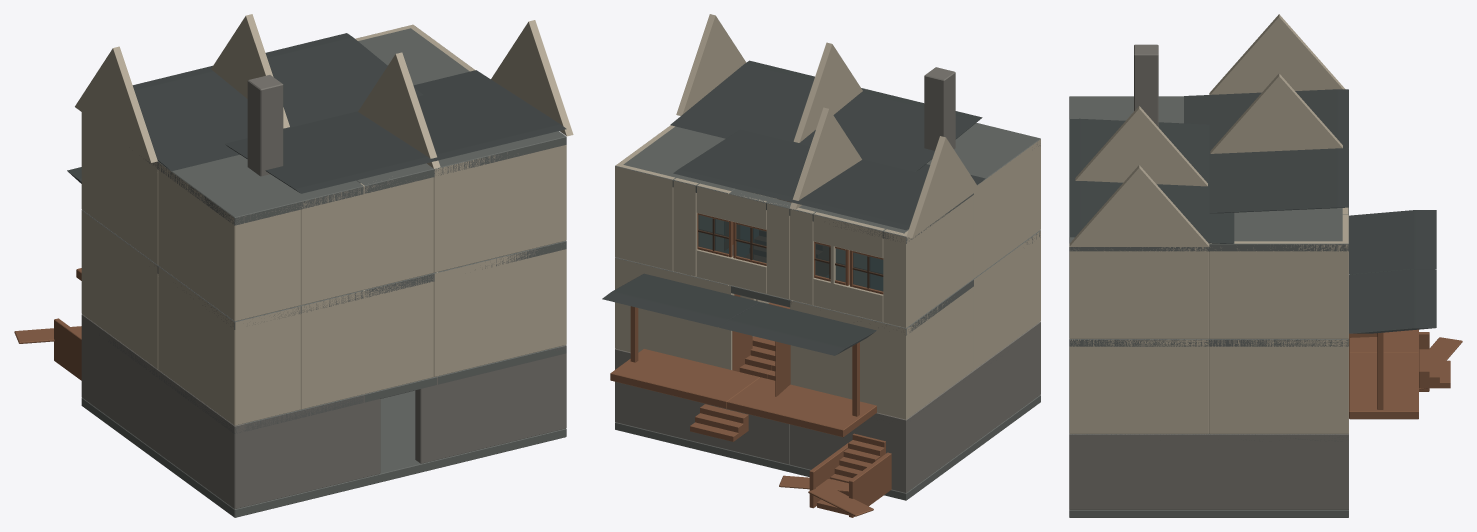
The model's file is FRM_001_FARMHOUSE_GEOMETRY_ONLY.fbx.
The picture shows the model from 3 angles, left to right: view 1: azimuth 30°, elevation 25°; view 2: azimuth 150°, elevation 25°; view 3: azimuth 270°, elevation 25°; orthographic projection. The views are drawn at different scales.
Visible parts, largest first — view 1: G_REAR_B, CELLAR_WALL_W, G_REAR_A, U_REAR_A, U_REAR_B, CELLAR_WALL_N_A, CELLAR_WALL_N_B, ROOF_W_N, ROOF_E_S, G_WEST_B, G_WEST_A, ROOF_E_N (+22 smaller); view 2: CELLAR_WALL_W, U_FRONT_WEST, U_FRONT_CENTER, G_FRONT_WEST, ROOF_E_N, U_WEST_A, G_WEST_A, ROOF_E_S, G_FRONT_EAST, G_WEST_B, U_WEST_B, ROOF_W_S (+35 smaller); view 3: CELLAR_WALL_E, G_EAST_B, G_EAST_A, U_EAST_A, U_EAST_B, ROOF_W_S, GABLE_S_W, ATTIC_DECK_EAST, GABLE_N_E, PORCH_ROOF_E, PORCH_ROOF_W, GABLE_N_W (+14 smaller).
Part boxes in pixels (x1,y1,x2,y2): G_REAR_B: (301,274,433,409); CELLAR_WALL_W: (81,315,244,508); G_REAR_A: (433,249,566,376); U_REAR_A: (433,145,566,272); U_REAR_B: (301,177,433,305); CELLAR_WALL_N_A: (229,390,380,508); CELLAR_WALL_N_B: (415,346,566,463); ROOF_W_N: (132,65,290,170); ROOF_E_S: (225,111,433,193); G_WEST_B: (81,211,158,368); G_WEST_A: (158,267,240,424); ROOF_E_N: (413,70,566,161); CELLAR_WALL_W: (898,321,1040,492); U_FRONT_WEST: (790,207,909,327); U_FRONT_CENTER: (673,178,789,299); G_FRONT_WEST: (790,300,909,419); ROOF_E_N: (670,60,865,143); U_WEST_A: (973,139,1040,278); G_WEST_A: (973,231,1040,369); ROOF_E_S: (799,89,982,171); G_FRONT_EAST: (615,258,734,369); G_WEST_B: (901,287,973,419); U_WEST_B: (901,195,973,327); ROOF_W_S: (673,129,810,201); CELLAR_WALL_E: (1069,434,1348,509); G_EAST_B: (1069,339,1209,433); G_EAST_A: (1209,339,1348,433); U_EAST_A: (1209,241,1348,338); U_EAST_B: (1069,247,1209,338); ROOF_W_S: (1209,148,1348,213); GABLE_S_W: (1069,165,1209,246); ATTIC_DECK_EAST: (1069,207,1348,251); GABLE_N_E: (1210,73,1342,153); PORCH_ROOF_E: (1349,269,1436,333); PORCH_ROOF_W: (1349,210,1436,274); GABLE_N_W: (1209,14,1345,94).
Bounding box in the file's own units: 10.58 × 11.15 × 11.25.
